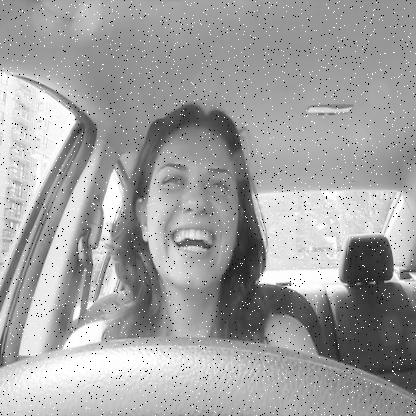no_seatbelt: (76, 82, 274, 416)
